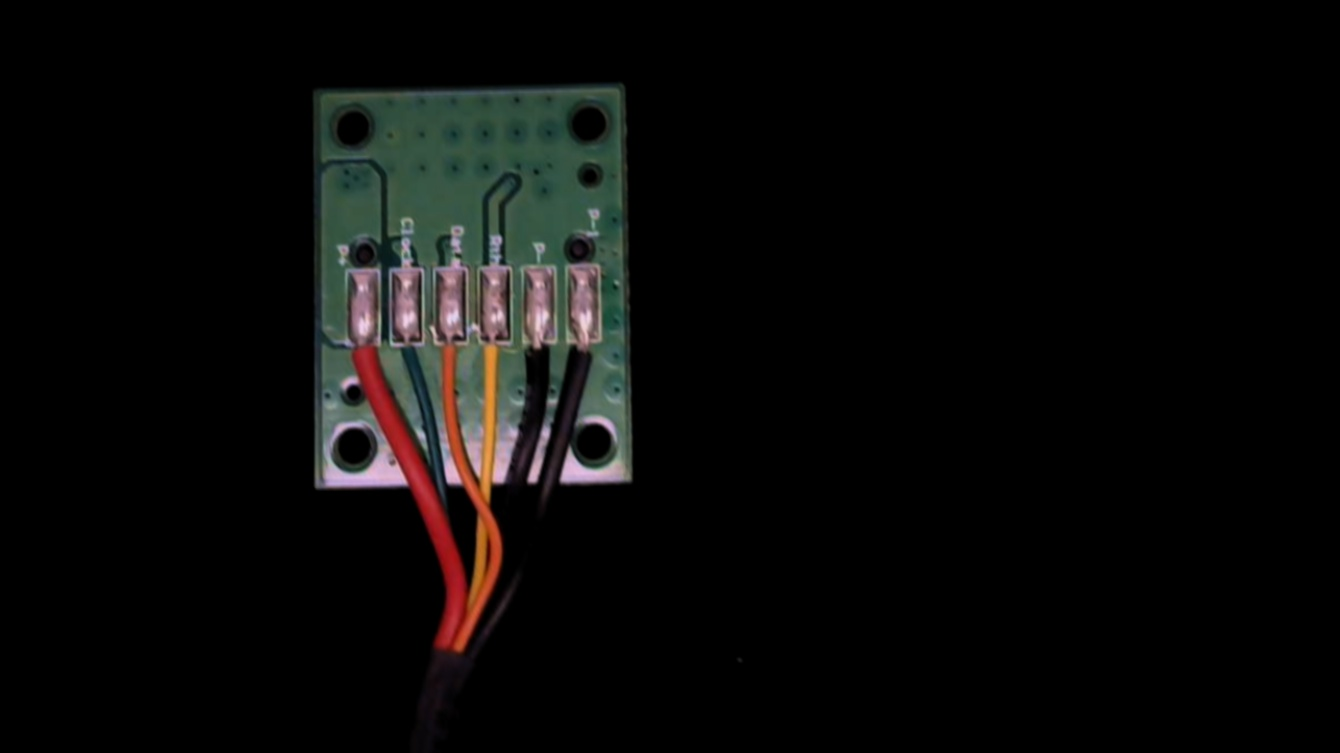Black: (516, 320, 559, 412)
Black1: (564, 319, 601, 393)
Green: (387, 324, 429, 399)
Orange: (430, 324, 467, 398)
Red: (345, 325, 383, 400)
Yellow: (473, 323, 513, 397)
